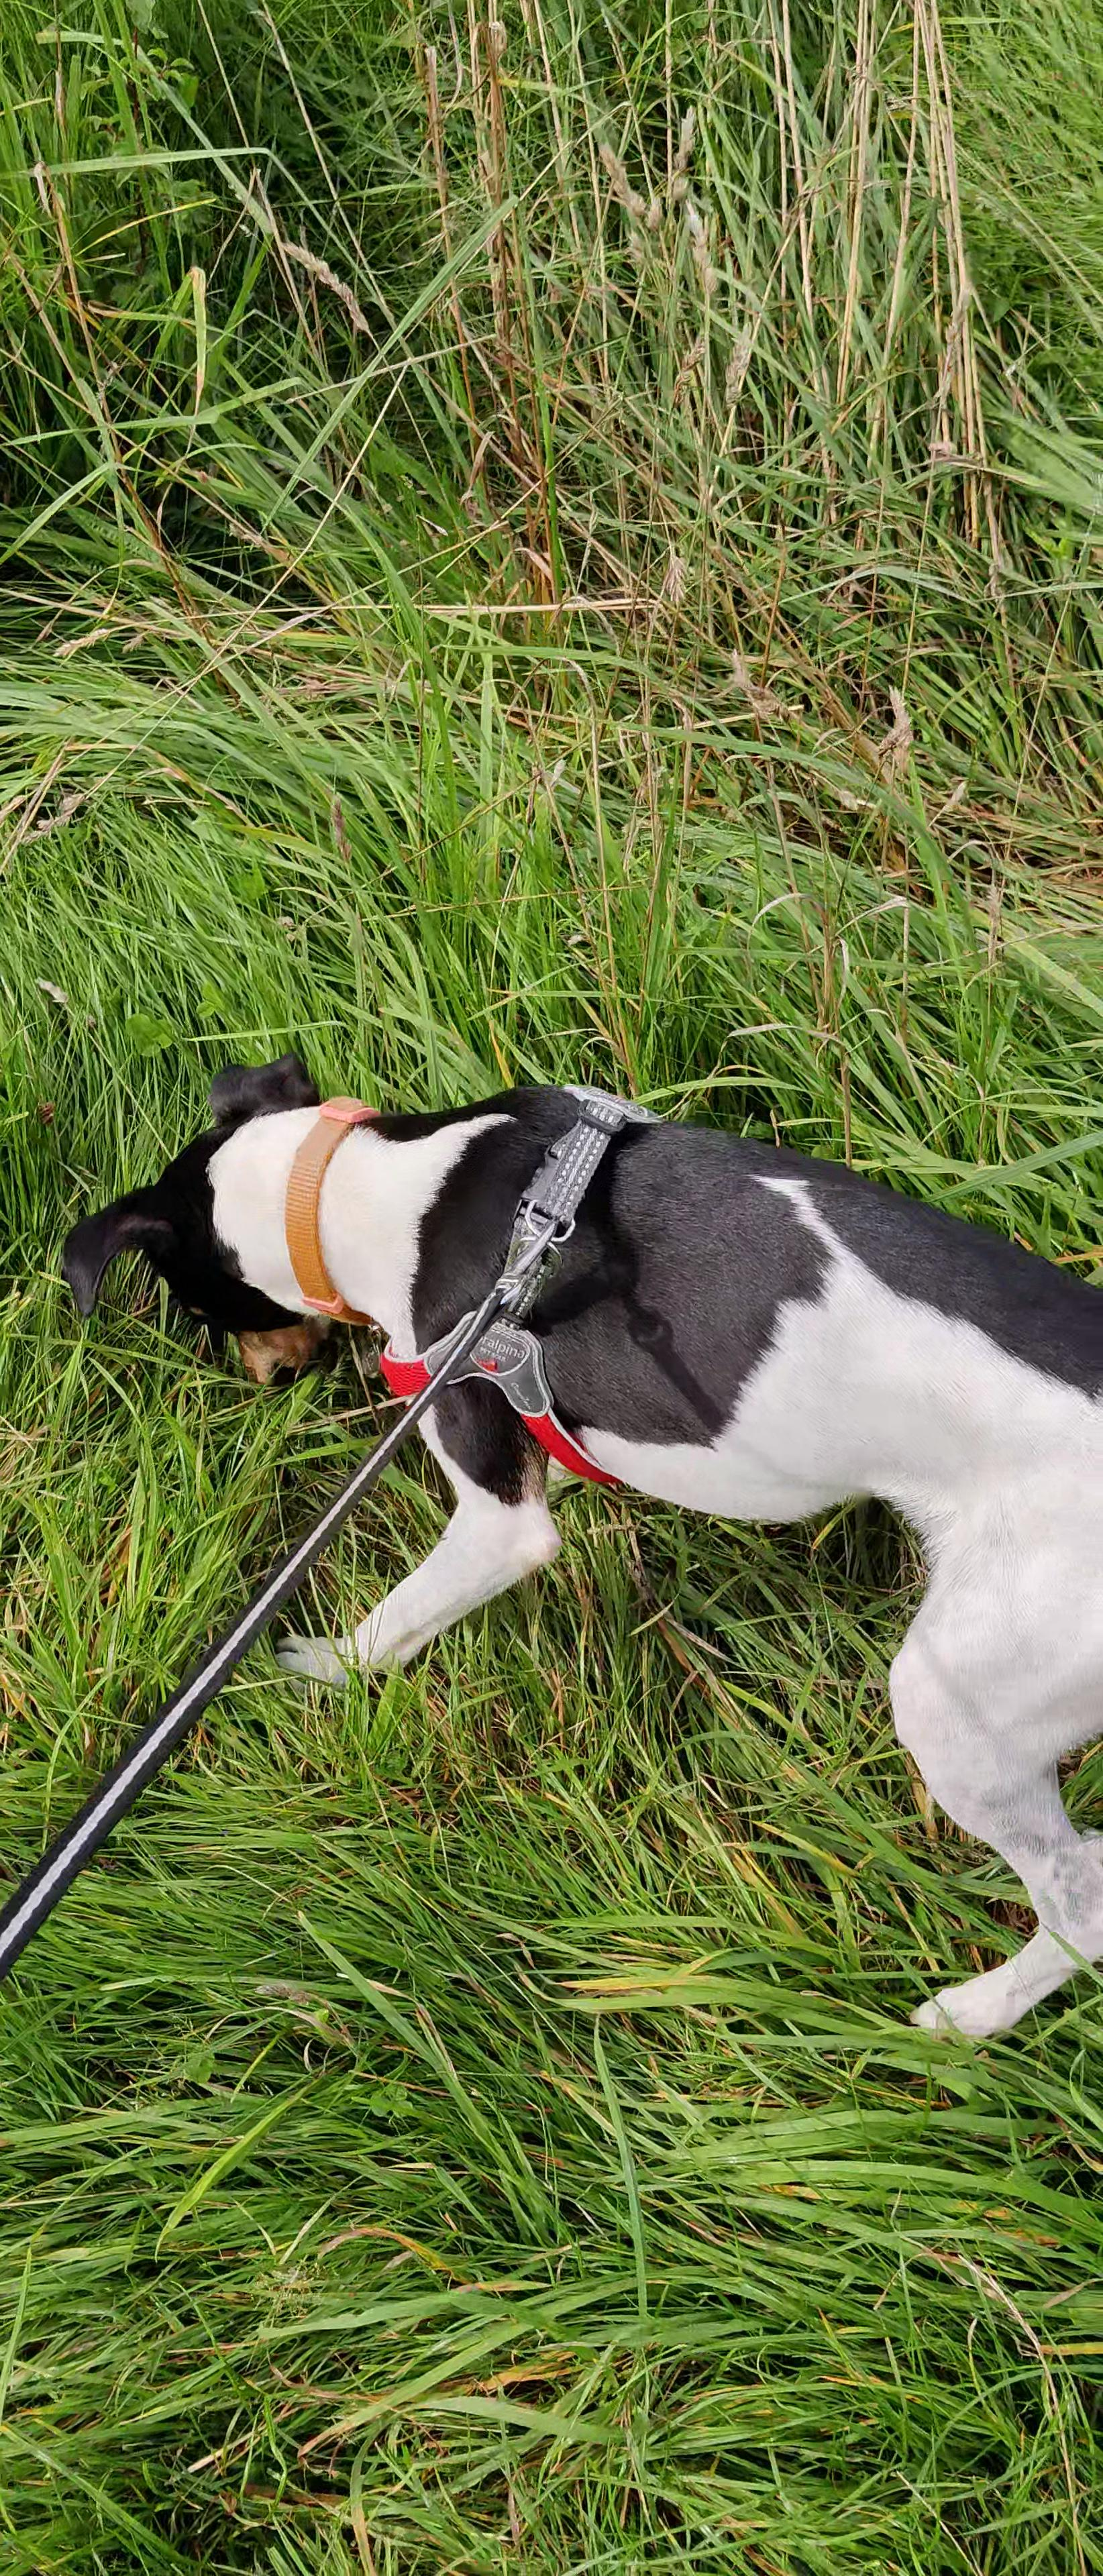Dog: (36, 1009, 1103, 2063)
